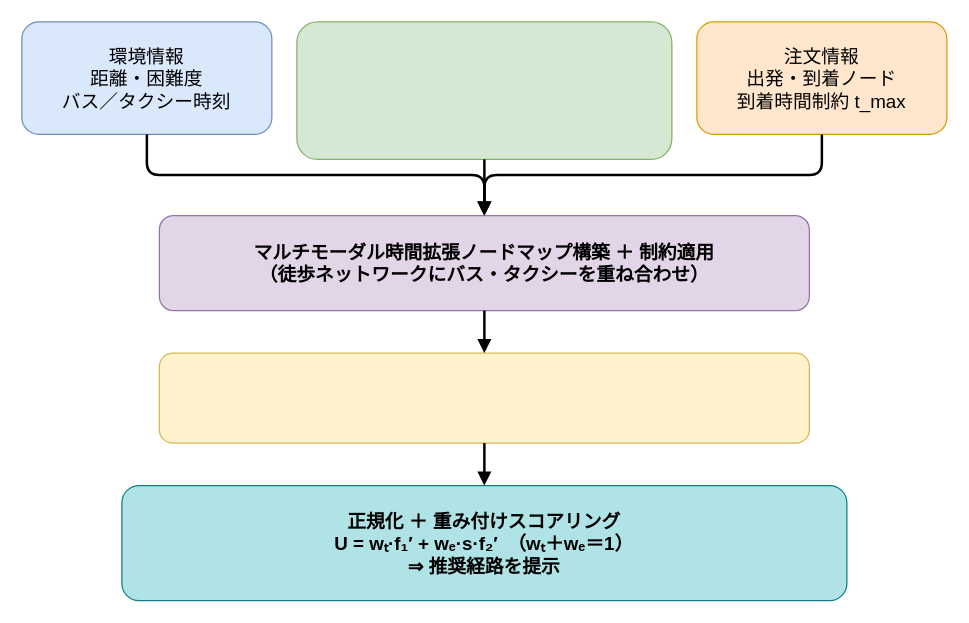
This 969x623 diagram has some shape labels left out. The centre of each missing label's shape, as x and y in pixels:
"個人情報 歩行能力 G_max 到着重視度 wₜ 歩行意欲 wₑ・評価方向 s" goes at pixel 484 90.
"多目的最適化 f₁＝総所要時間 ／ f₂＝運動負荷 ⇒ パレート最適解群" goes at pixel 483 397.
